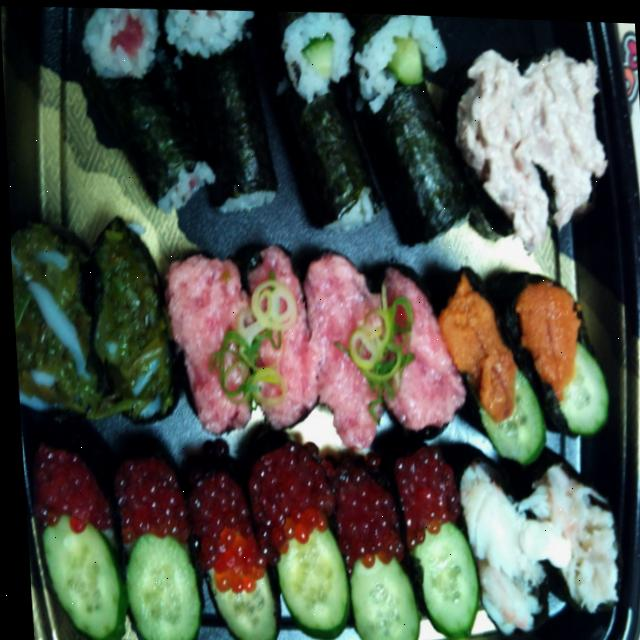寿司卷物: (228, 101, 640, 640)
